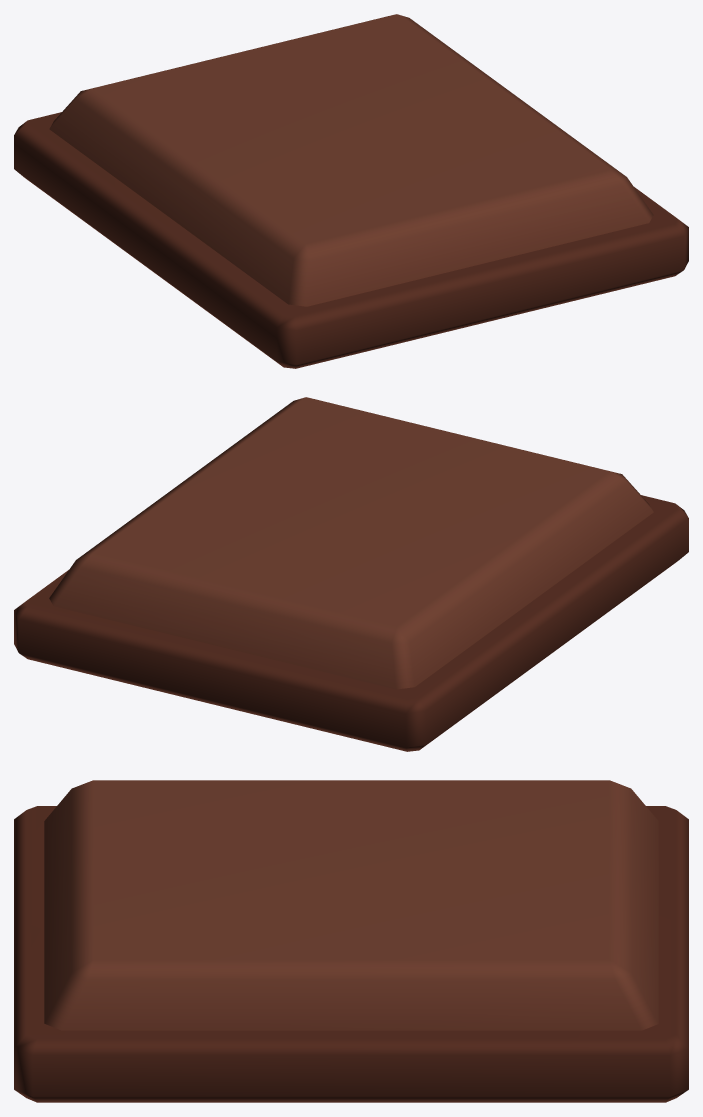
Rendered from ChocolatePlate_01.glb.
3 views of the same model, one above another, from view 1: azimuth 30°, elevation 25°; view 2: azimuth 150°, elevation 25°; view 3: azimuth 270°, elevation 25° (orthographic). The views are drawn at different scales.
Parts seen in each view (by area): view 1: ChocolatePlate_01; view 2: ChocolatePlate_01; view 3: ChocolatePlate_01.
Boxes of the visible parts, left/top/right/bottom form: ChocolatePlate_01: left=14, top=14, right=688, bottom=368; ChocolatePlate_01: left=14, top=397, right=688, bottom=751; ChocolatePlate_01: left=14, top=780, right=688, bottom=1102.
Bounding box in the file's own units: 2.23 × 0.4949 × 2.61.
1 material, 1 textured.
